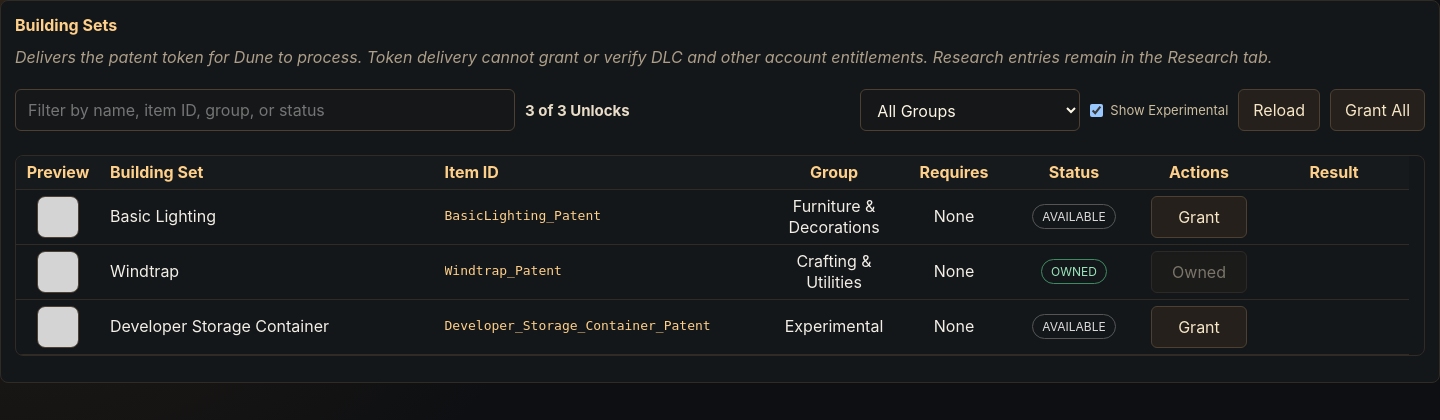
Test: BuildingUnlocksTab › grants one real token and changes the row to pending
The image size is (1440, 420).
In the field named "Filter Building Sets": (265, 110) left=15, top=89, right=515, bottom=131, type "Basic Lighting"
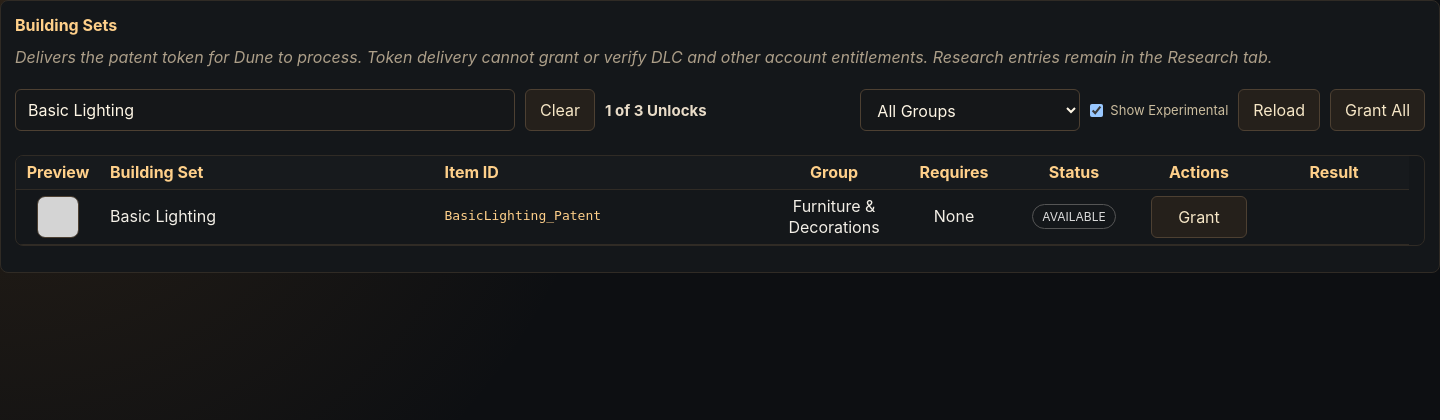
Click the button "Grant": (1199, 217) left=1151, top=196, right=1247, bottom=238
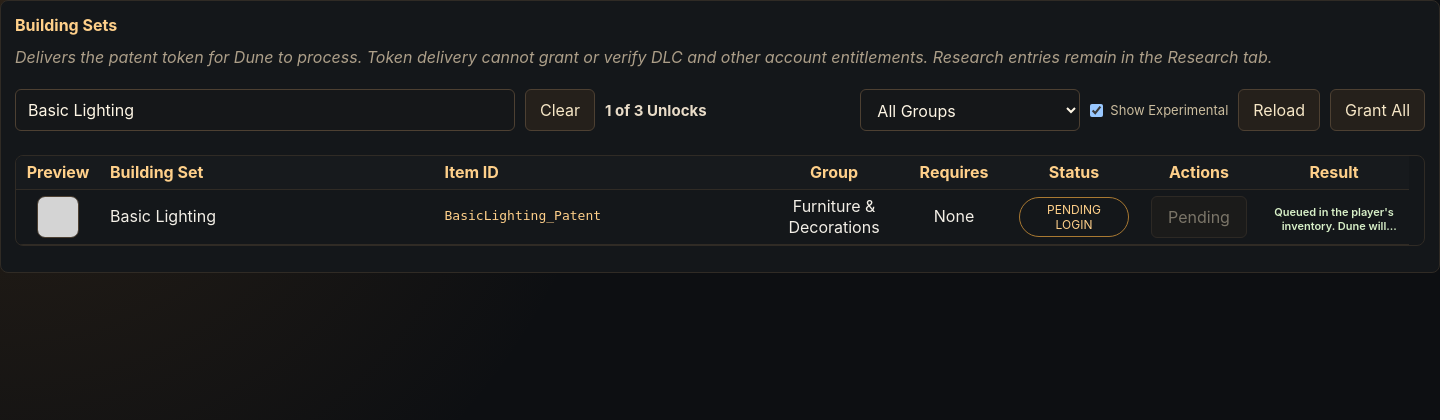
expect the text "Pending Login" is shown: met, box left=1019, top=197, right=1129, bottom=237
expect the text "Dune will process it on the next login" is shown: met, box left=1274, top=205, right=1394, bottom=244
